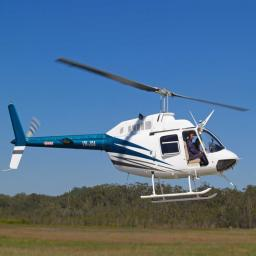helicopter: (1, 54, 250, 209)
